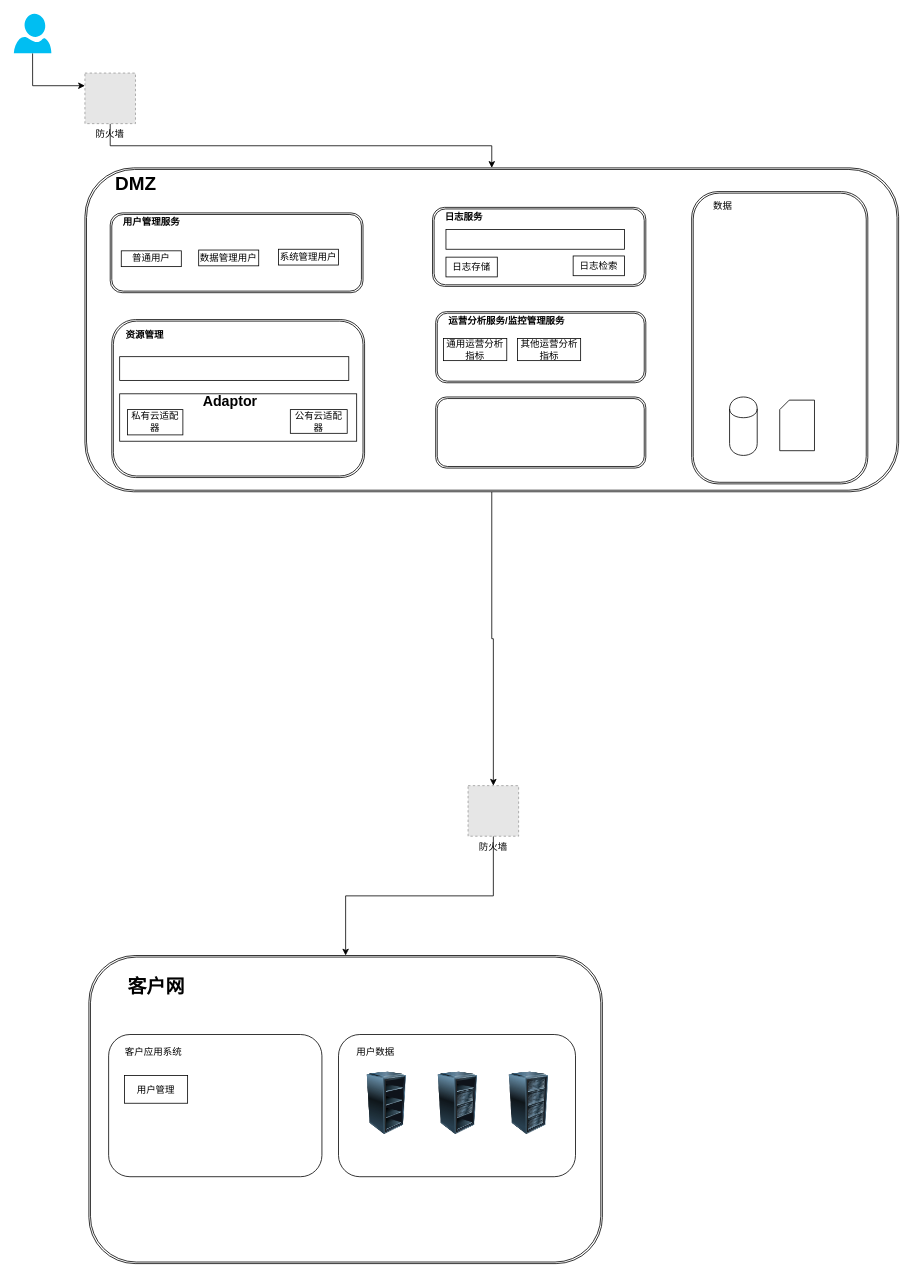
Some shapes in this 912 by 1277 pixel diagram are drawn without their labels. Grey dashed boxes stand in for pictures. The centre of each missing label's shape, as x and y in pixels:
"data base" goes at pixel 743 425.
"file system" goes at pixel 796 425.
"日志restful-api" goes at pixel 534 239.
"权限管理服务" goes at pixel 540 432.
"资源管理-restfulapi" goes at pixel 234 368.
